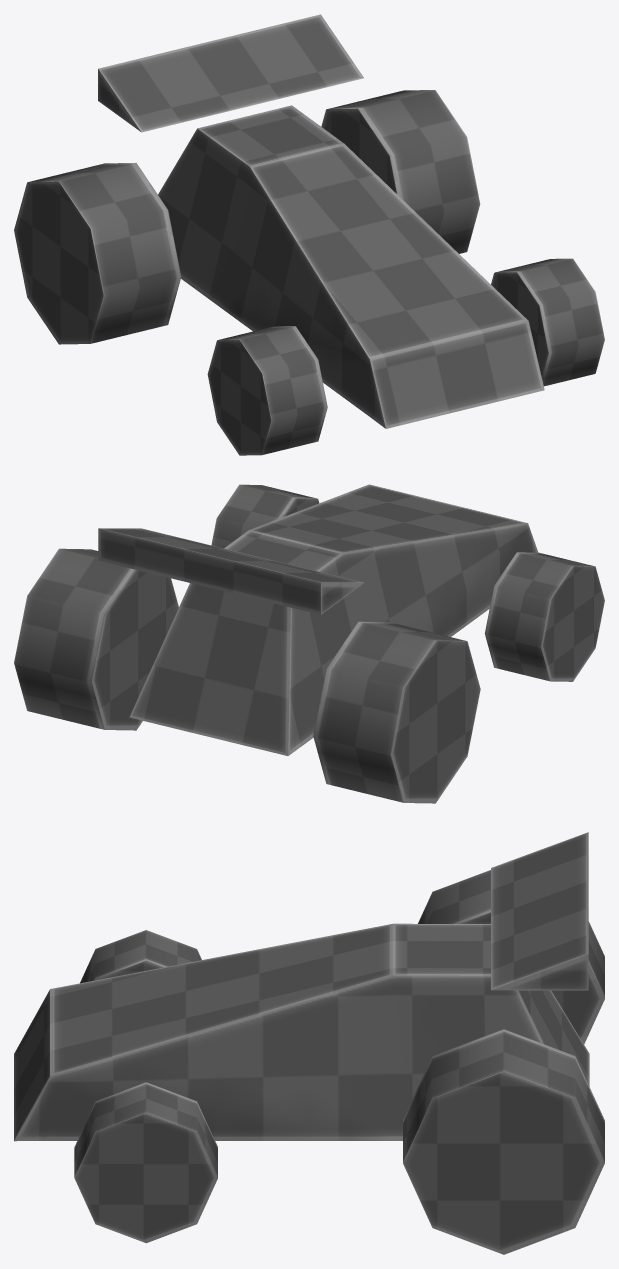
The model's file is car724.FBX.
3 renders of one model, top to bottom at view 1: azimuth 30°, elevation 25°; view 2: azimuth 150°, elevation 25°; view 3: azimuth 270°, elevation 25°, orthographic. The views are drawn at different scales.
Visible parts, largest first — view 1: vehicle, wheelBR, wheelBL, wheelFR, wheelFL; view 2: vehicle, wheelBR, wheelBL, wheelFR, wheelFL; view 3: vehicle, wheelBL, wheelFL, wheelBR, wheelFR.
Boxes of the visible parts, x1,y1,x2,y2 form: vehicle: [98, 14, 544, 428]; wheelBR: [14, 163, 181, 344]; wheelBL: [321, 90, 480, 253]; wheelFR: [207, 326, 327, 455]; wheelFL: [491, 258, 604, 386]; vehicle: [98, 484, 538, 755]; wheelBR: [313, 621, 480, 803]; wheelBL: [14, 548, 178, 730]; wheelFR: [484, 552, 604, 681]; wheelFL: [211, 484, 319, 548]; vehicle: [14, 832, 589, 1141]; wheelBL: [403, 1029, 604, 1254]; wheelFL: [74, 1082, 217, 1243]; wheelBR: [418, 870, 604, 1044]; wheelFR: [80, 930, 201, 983].
Size of the model in its own units: 69.72 by 40.62 by 84.21.
